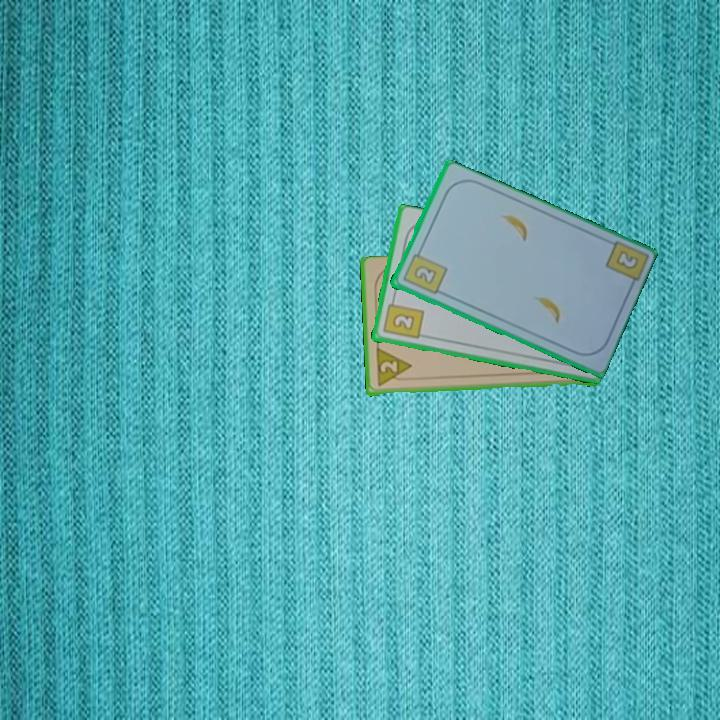2b: (399, 245, 449, 297), (379, 295, 426, 342), (612, 247, 641, 272)
2p: (372, 346, 414, 390)
